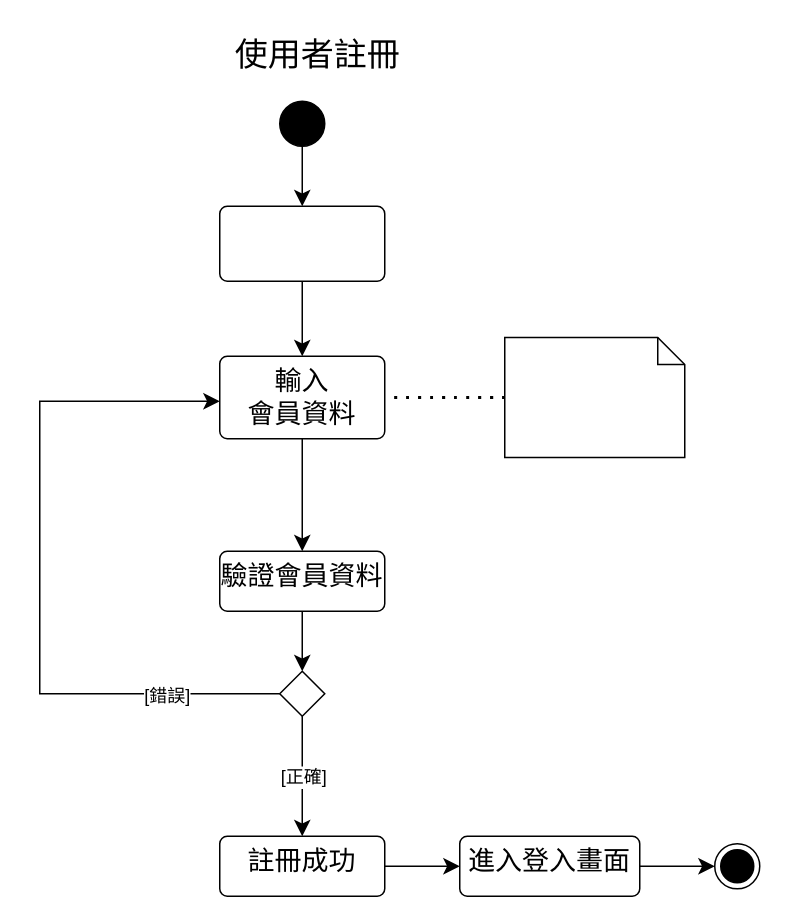
Image size: 786x923. Some labels were removed from this diagram. Here are the shapes that lost their labels. From the top down, the centre of each, then its label:
At (x=301, y=243): "進入 註冊畫面".
At (x=594, y=397): "使用者名稱 信箱(帳號) 密碼".
